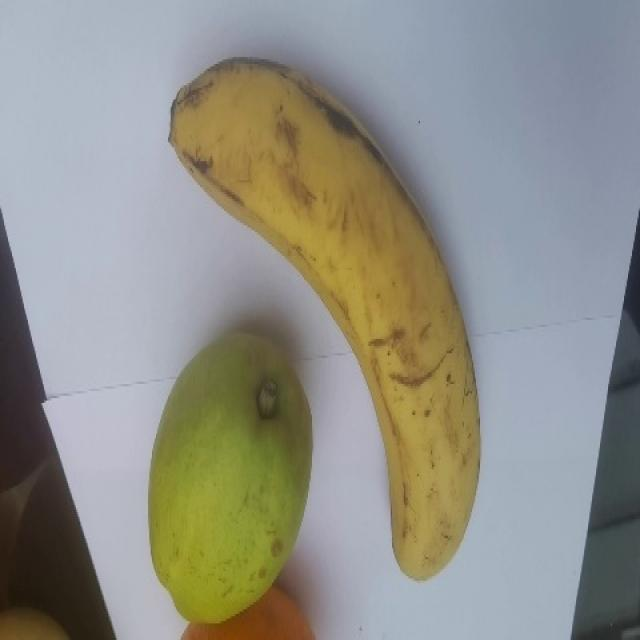Banana: (167, 55, 482, 581)
Orange: (179, 583, 314, 639)
